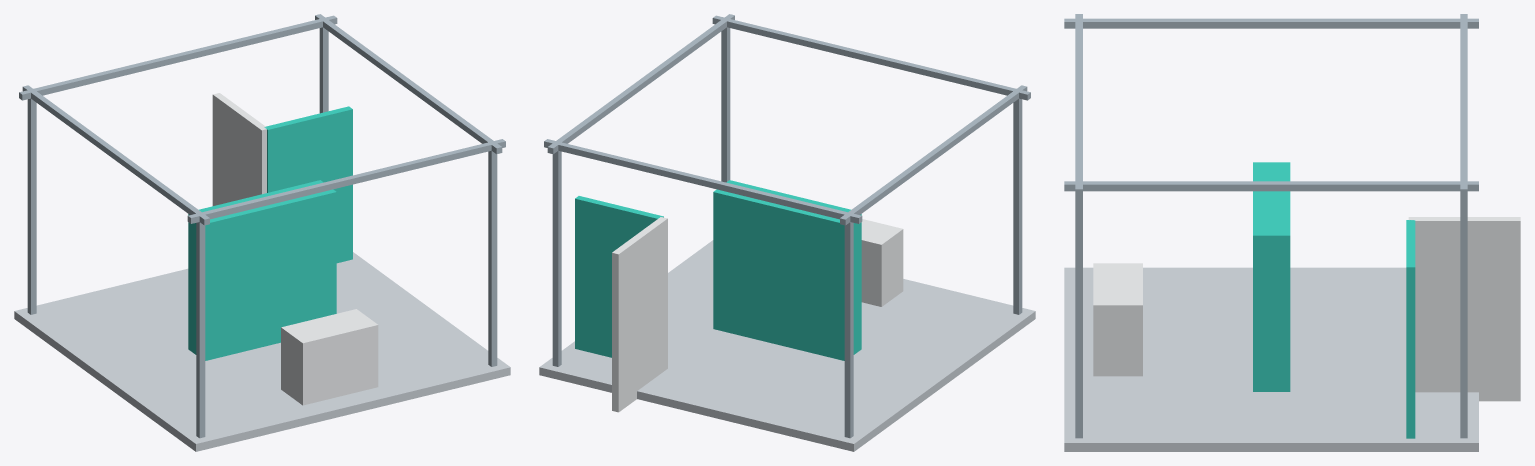
3 renders of one model, left to right at view 1: azimuth 30°, elevation 25°; view 2: azimuth 150°, elevation 25°; view 3: azimuth 270°, elevation 25°, orthographic. The views are drawn at different scales.
Parts seen in each view (by area): view 1: Exhibition Booth Concept; view 2: Exhibition Booth Concept; view 3: Exhibition Booth Concept.
Boxes of the visible parts, left/top/right/bottom form: Exhibition Booth Concept: left=14, top=14, right=510, bottom=451; Exhibition Booth Concept: left=539, top=14, right=1035, bottom=451; Exhibition Booth Concept: left=1064, top=14, right=1520, bottom=451.
Bounding box in the file's own units: 5 × 3.49 × 5.51.
